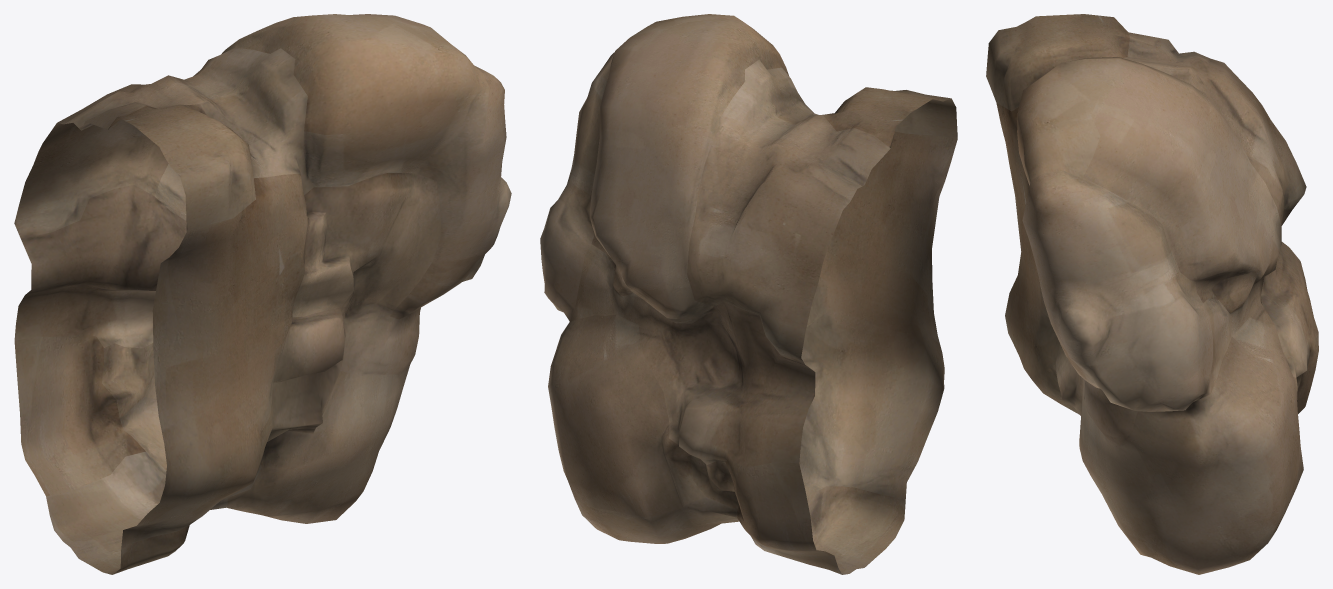
The model's file is props_coalmines_boulder5_huge.glb.
3 views of the same model, side by side, from view 1: azimuth 30°, elevation 25°; view 2: azimuth 150°, elevation 25°; view 3: azimuth 270°, elevation 25° (orthographic). The views are drawn at different scales.
Parts seen in each view (by area): view 1: models/props_coalmines/boulder5_huge; view 2: models/props_coalmines/boulder5_huge; view 3: models/props_coalmines/boulder5_huge.
Boxes of the visible parts, x1,y1,x2,y2 form: models/props_coalmines/boulder5_huge: [14, 14, 511, 574]; models/props_coalmines/boulder5_huge: [540, 14, 957, 574]; models/props_coalmines/boulder5_huge: [986, 14, 1318, 574].
Bounding box in the file's own units: 713 × 966 × 593.
Materials: 1 (1 with a texture image).
